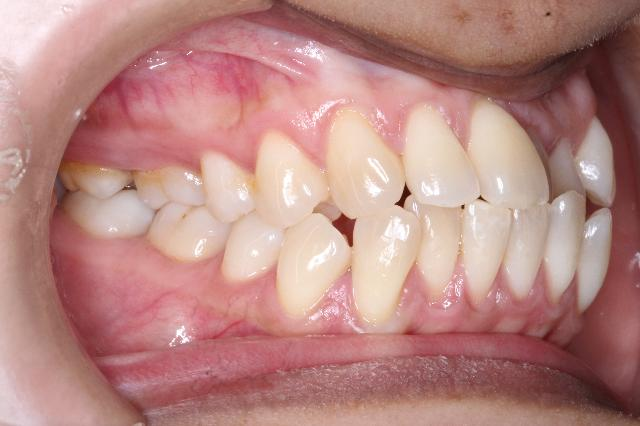canine class II 1/4: (277, 101, 418, 328)
molar class I: (130, 148, 228, 266)
